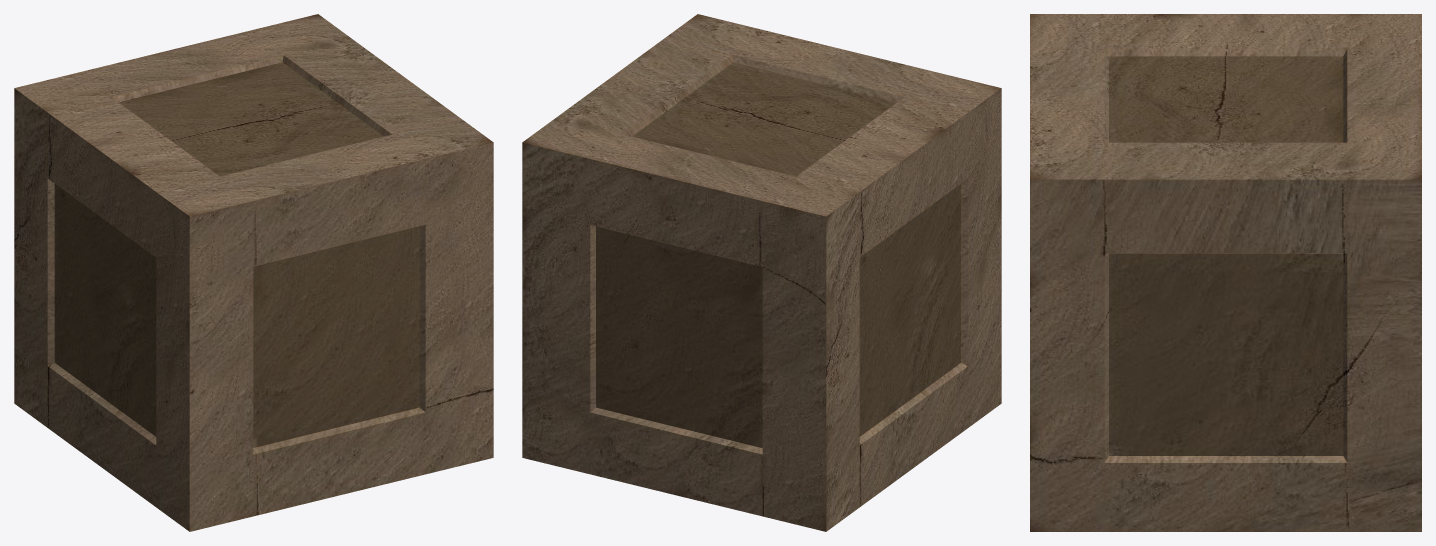
3 views of the same model, side by side, from view 1: azimuth 30°, elevation 25°; view 2: azimuth 150°, elevation 25°; view 3: azimuth 270°, elevation 25° (orthographic). The views are drawn at different scales.
Parts seen in each view (by area): view 1: Cube; view 2: Cube; view 3: Cube.
Boxes of the visible parts, x1,y1,x2,y2 form: Cube: [14, 14, 493, 531]; Cube: [522, 14, 1001, 531]; Cube: [1030, 14, 1421, 531].
Bounding box in the file's own units: 0.7681 × 0.7618 × 0.7681.
Materials: 1 (1 with a texture image).
